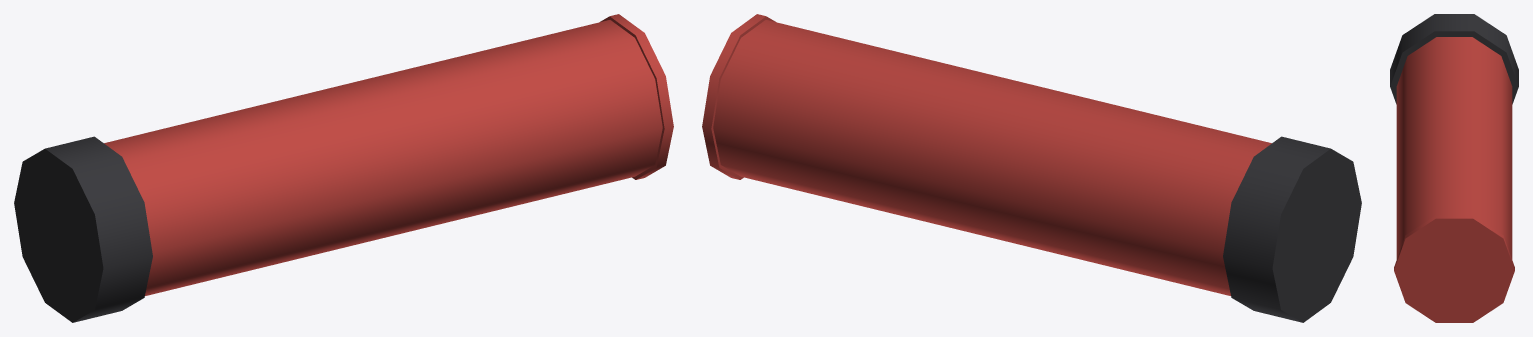
The model's file is tool_tube_lod1.glb.
3 views of the same model, side by side, from view 1: azimuth 30°, elevation 25°; view 2: azimuth 150°, elevation 25°; view 3: azimuth 270°, elevation 25° (orthographic). The views are drawn at different scales.
Visible parts, largest first — view 1: tool_tube_lod1; view 2: tool_tube_lod1; view 3: tool_tube_lod1.
Boxes of the visible parts, left/top/right/bottom form: tool_tube_lod1: left=14, top=14, right=673, bottom=322; tool_tube_lod1: left=702, top=14, right=1361, bottom=322; tool_tube_lod1: left=1390, top=14, right=1518, bottom=322.
Bounding box in the file's own units: 0.37 × 0.0951 × 0.1.
